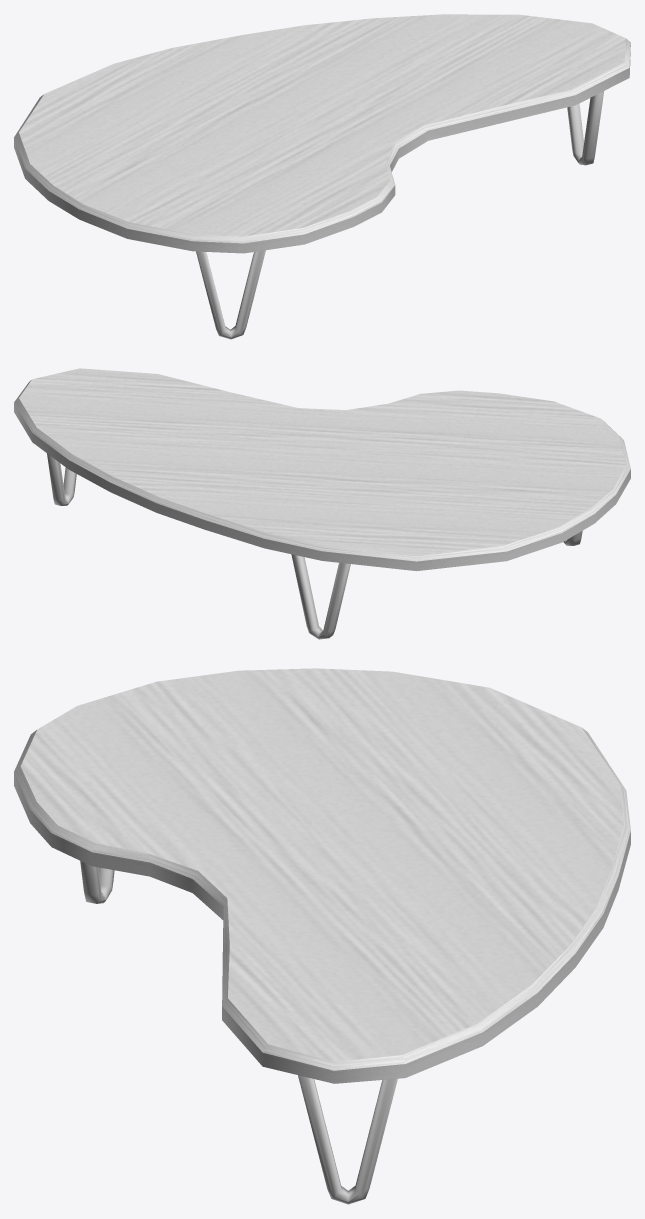
Rendered from Kidney_Table_05.FBX.
The picture shows the model from 3 angles, top to bottom: view 1: azimuth 30°, elevation 25°; view 2: azimuth 150°, elevation 25°; view 3: azimuth 270°, elevation 25°; orthographic projection. The views are drawn at different scales.
Parts seen in each view (by area): view 1: Kidney_Bean_Table; view 2: Kidney_Bean_Table; view 3: Kidney_Bean_Table.
Part boxes in pixels (x1,y1,x2,y2): Kidney_Bean_Table: [14, 14, 630, 339]; Kidney_Bean_Table: [14, 368, 630, 639]; Kidney_Bean_Table: [14, 668, 630, 1204].
Bounding box in the file's own units: 396 × 76.96 × 259.
